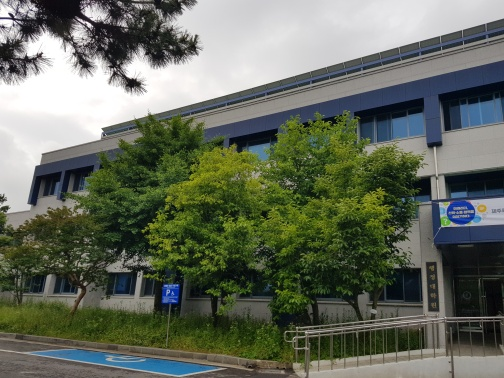College of Social Sciences: (26, 40, 504, 352)
